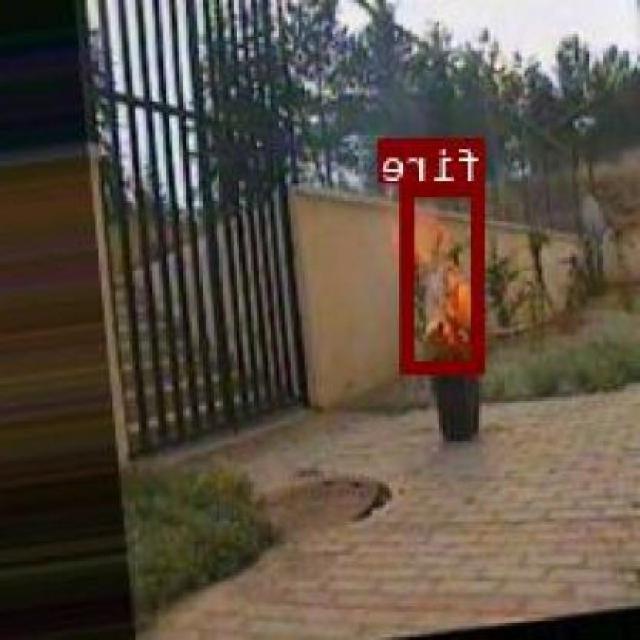fire: (404, 180, 486, 372)
